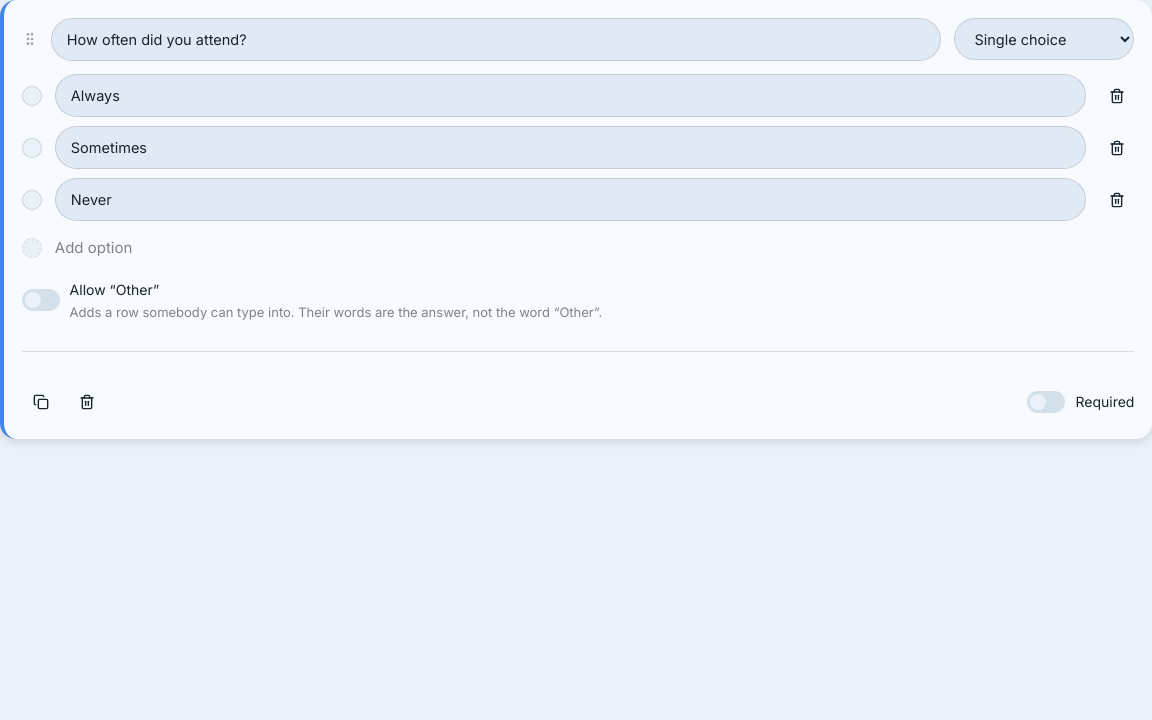
Test: changing type warns BEFORE it costs anything › keeps the question as it was when the warning is declined
This screenshot has width=1152, height=720.
Select "Yes / No" in the dropdown named "Type of question" at (1044, 39), box [954,18,1134,60]
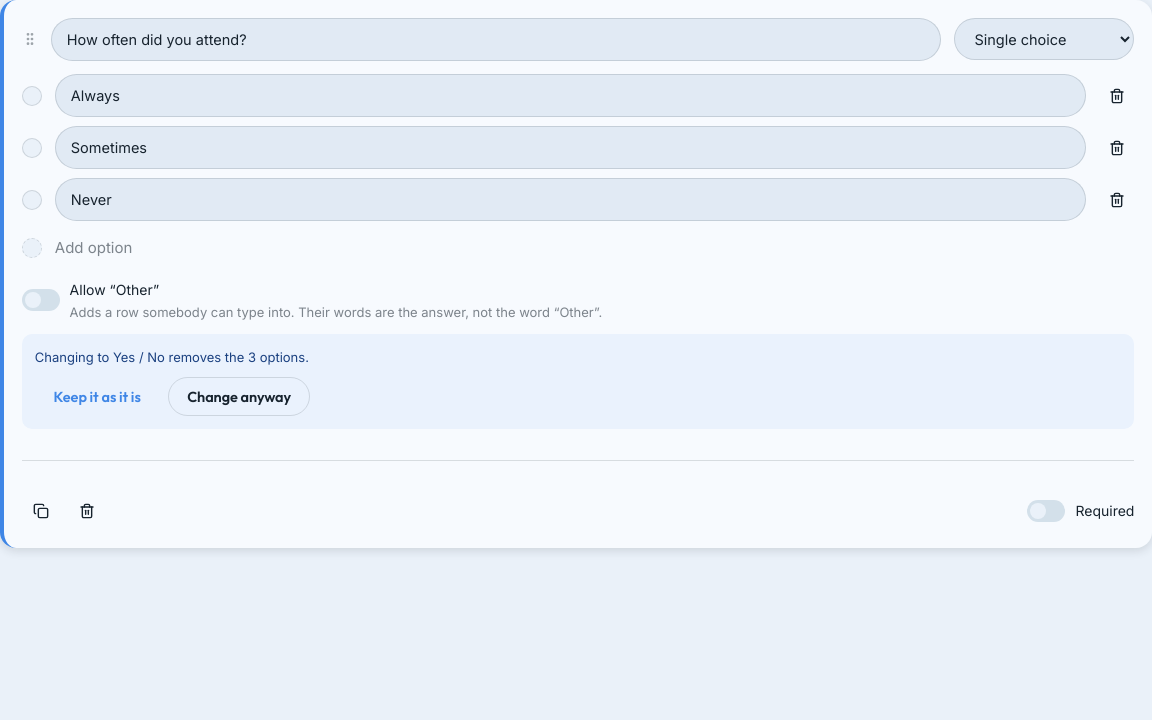
Click the button "Keep it as it is".
click(97, 396)  # box [35,377,160,416]
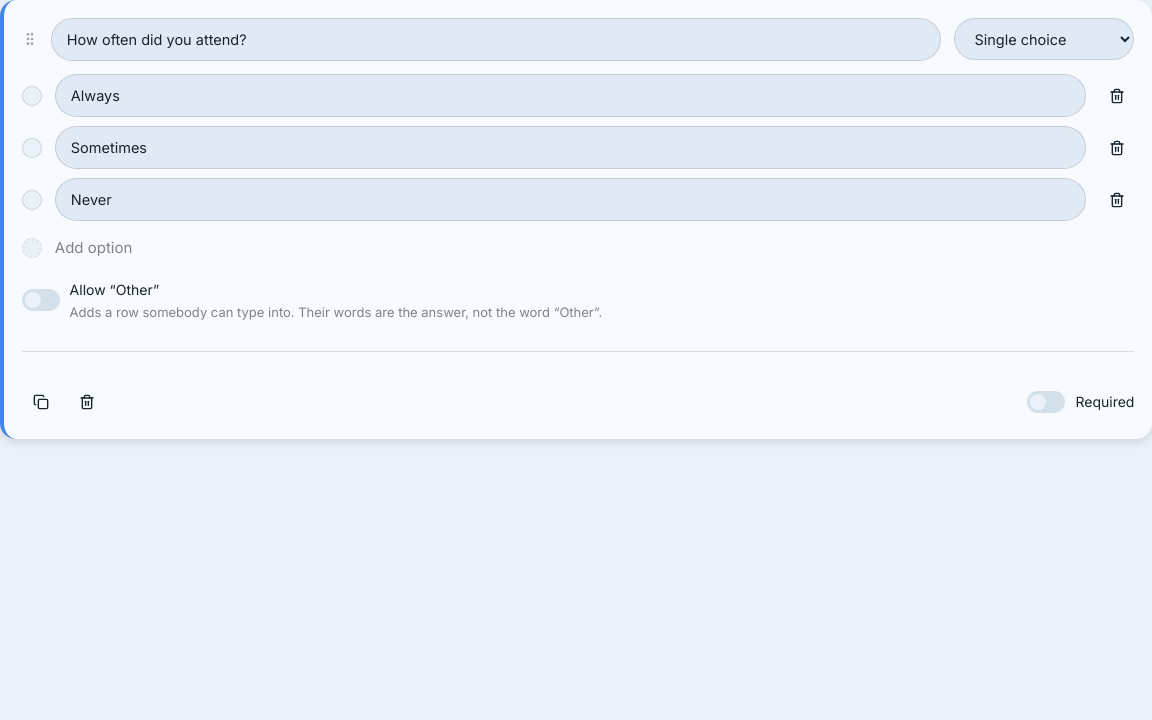
Expected: the field named "Option 1" is shown, [55,74,1086,117]
Result: the message "Changing to Yes / No removes the 3 options. Keep it as it is Change anyway" is gone
